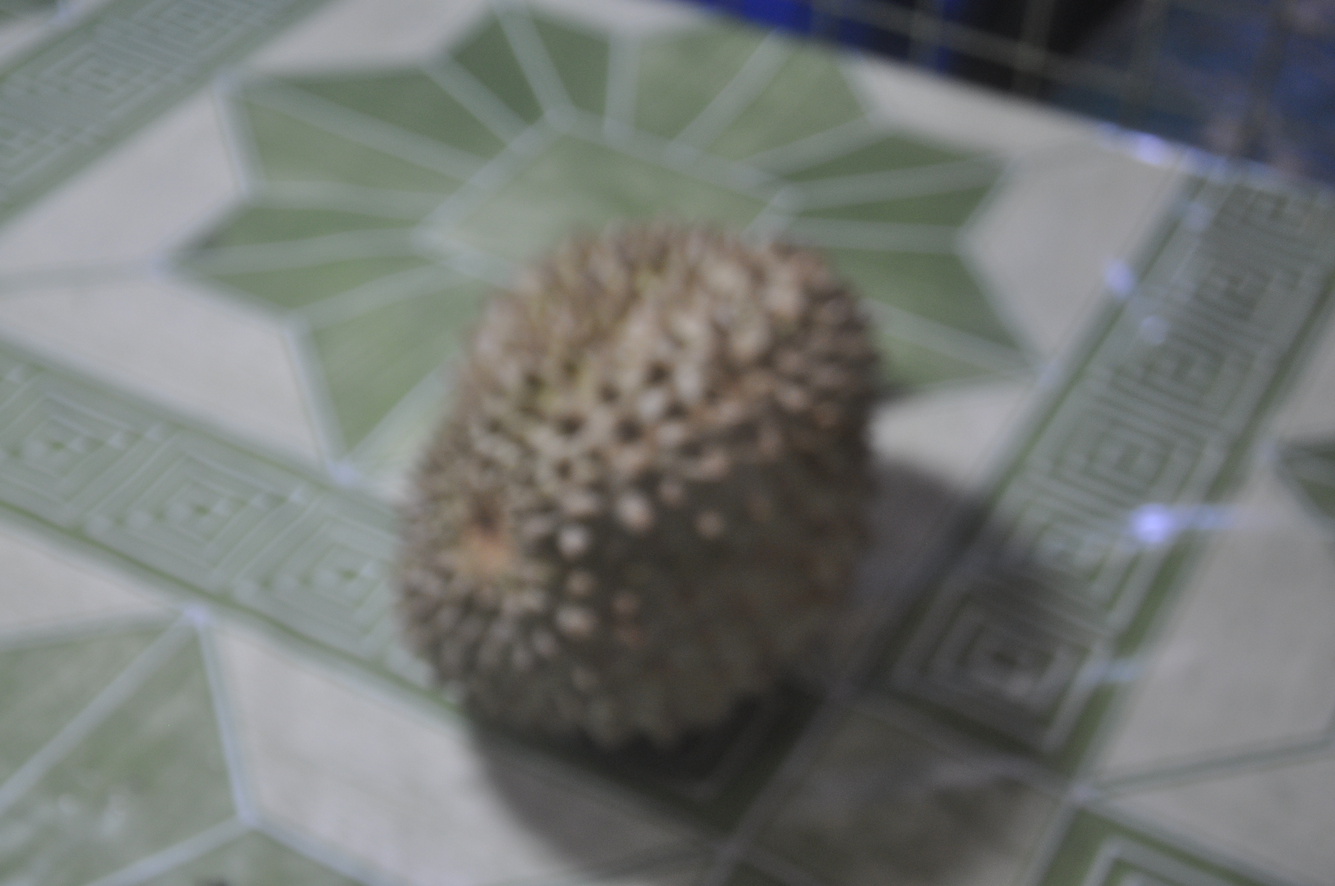mature: (386, 142, 898, 778)
